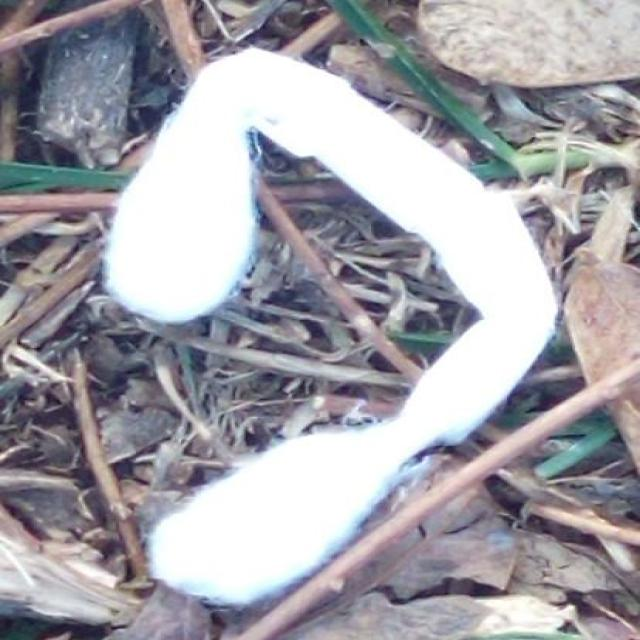litter: (108, 41, 552, 604)
